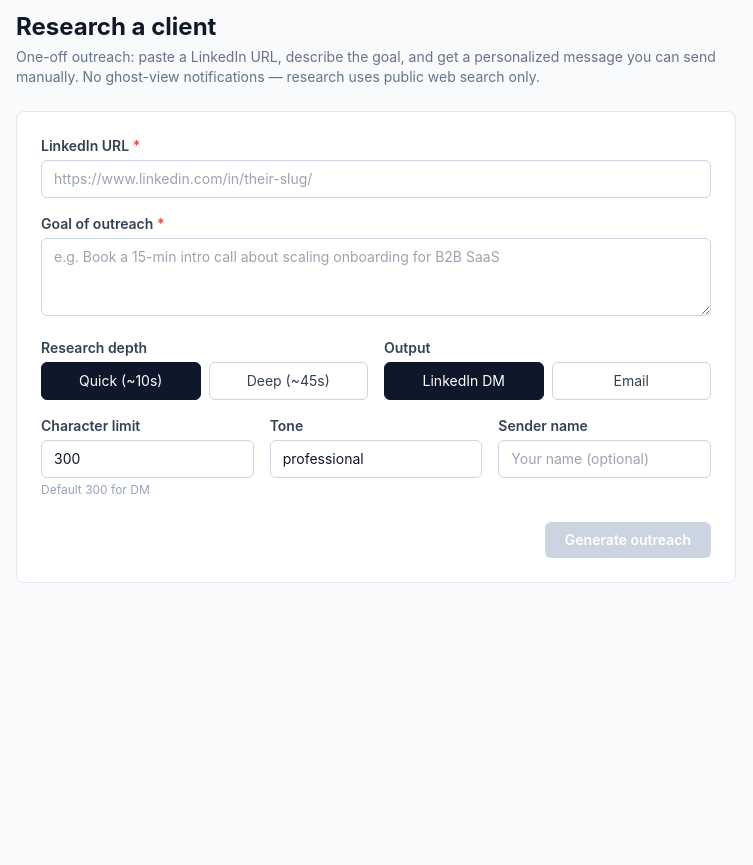
ResearchClient page › submits the form and renders the composed message
This screenshot has width=753, height=865.
Type "https://www.linkedin.com/in/jane-doe/" into the field with test id "input-linkedin-url".
click(376, 179); type("https://www.linkedin.com/in/jane-doe/")  # box [41,160,711,198]
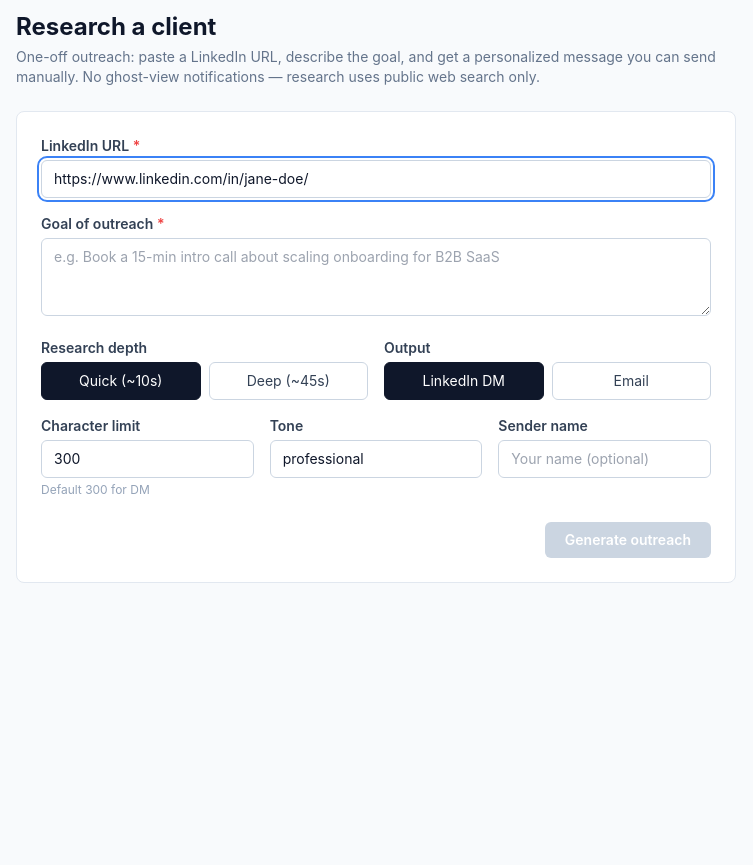
Type "Book a discovery call" into the text box with test id "input-goal".
click(376, 277); type("Book a discovery call")  # box [41,238,711,316]
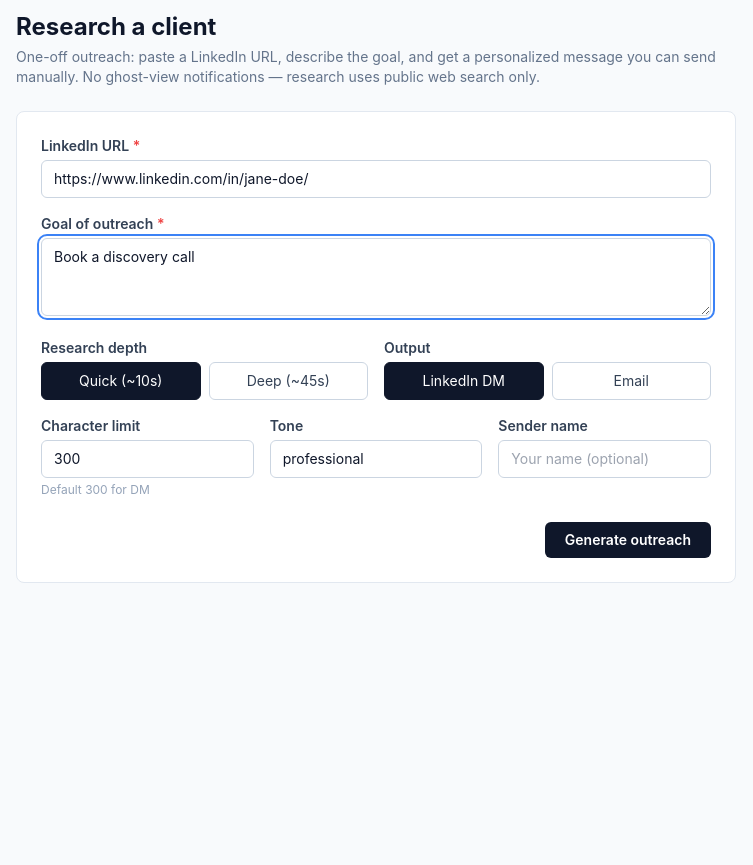
Click the button with test id "submit-research".
click(628, 540)  # box [545,522,711,558]
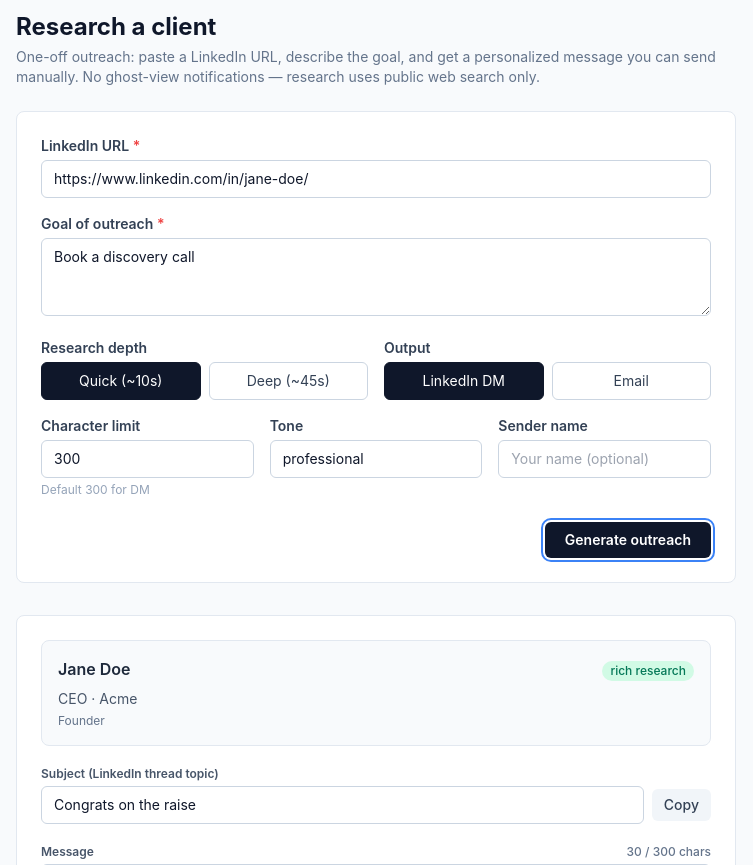
Now the field with test id "result-subject" holds "Congrats on the raise", box [41,786,644,824]
Now the text with test id "char-count" shows "30 / 300", box [627,844,711,860]
